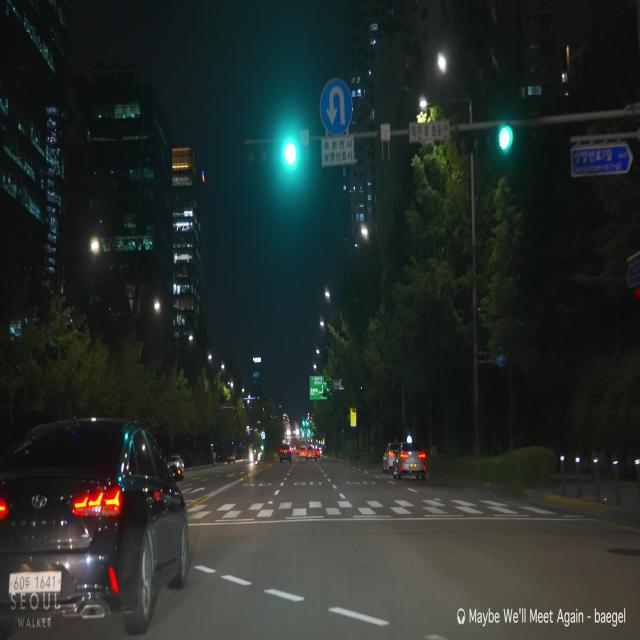Green Light: (282, 138, 299, 168), (498, 125, 514, 152)
